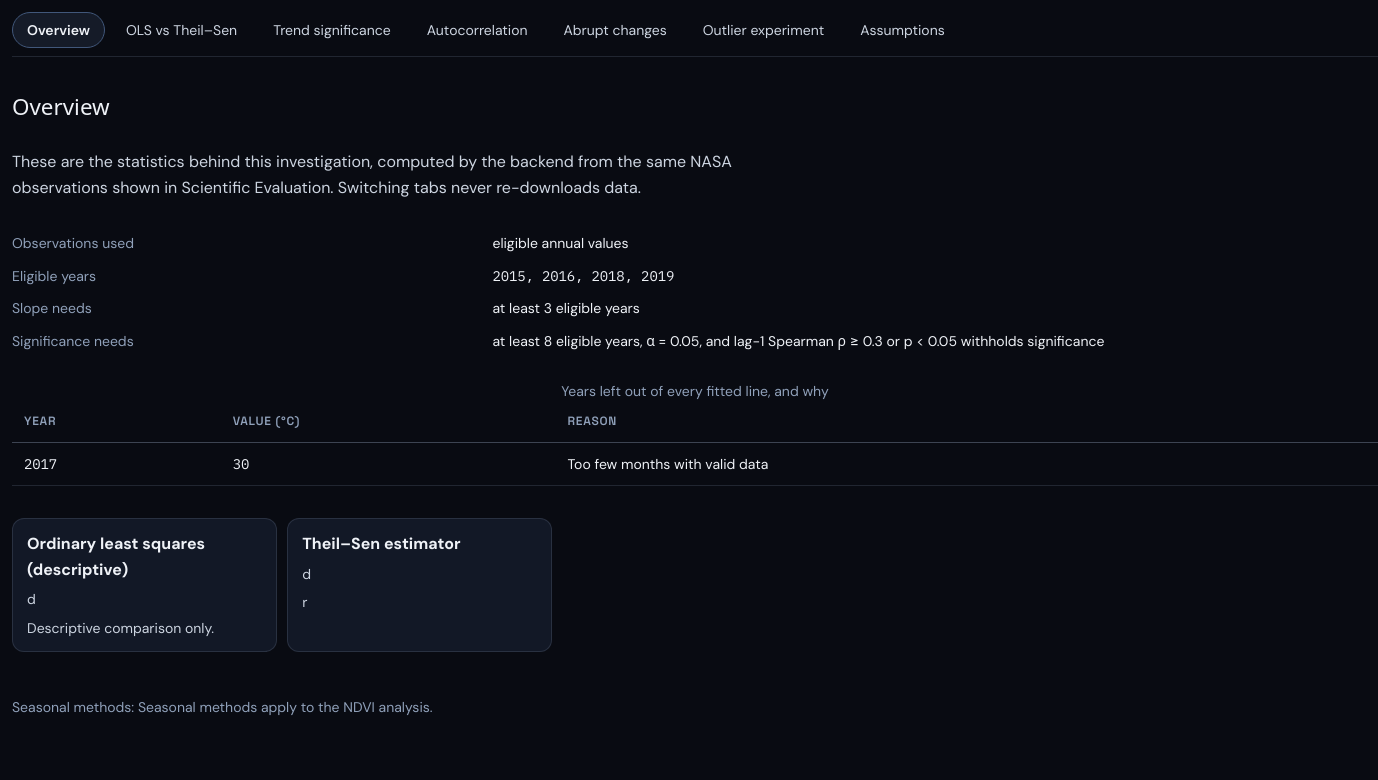
Test: Statistical Methods Lab › shows autocorrelation diagnostics with the independence caveat
The width and height of the screenshot is (1378, 780).
Click the tab "Autocorrelation" at (477, 30), box [412, 12, 542, 48]
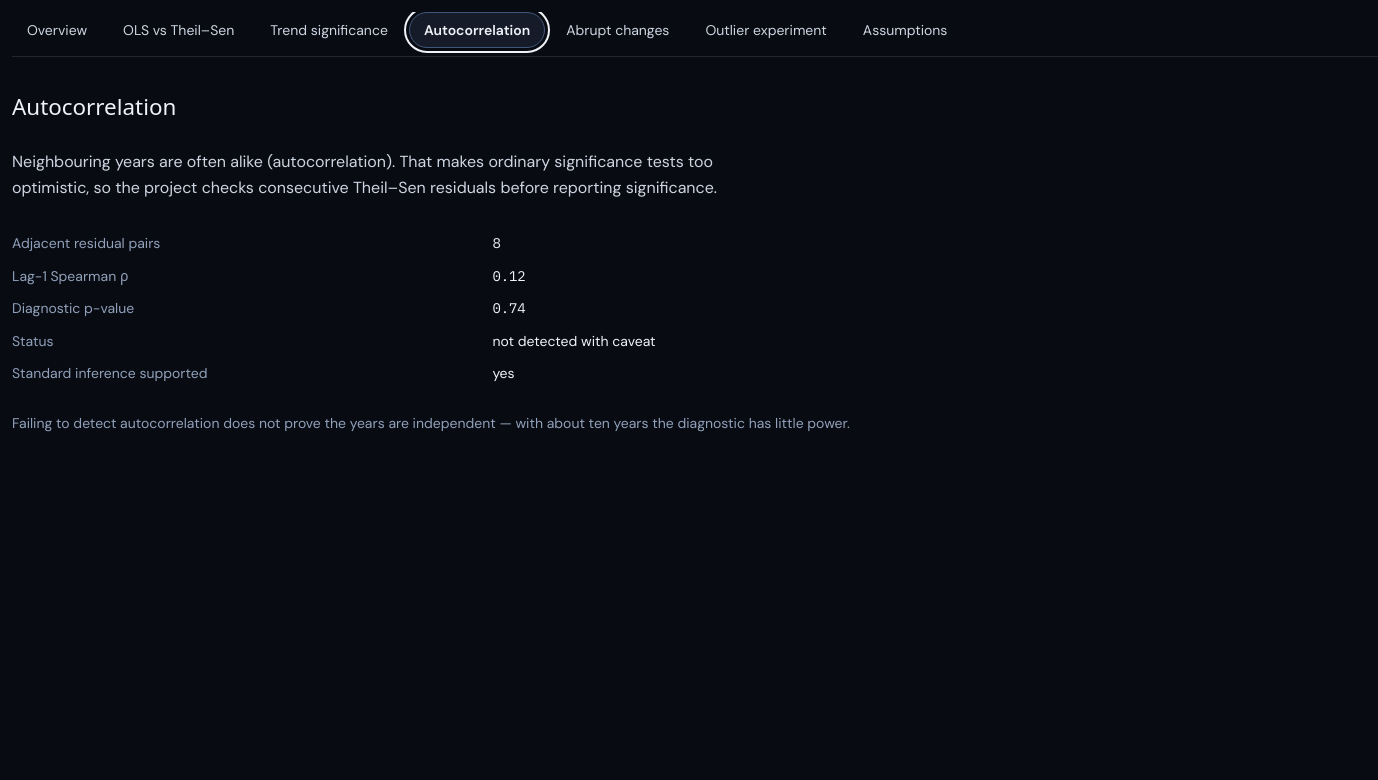
Result: the element with test id "dependence-results" shows "0.12" at [492, 267, 525, 285]
Result: the text "does not prove the years are independent" is shown at [12, 414, 850, 432]
